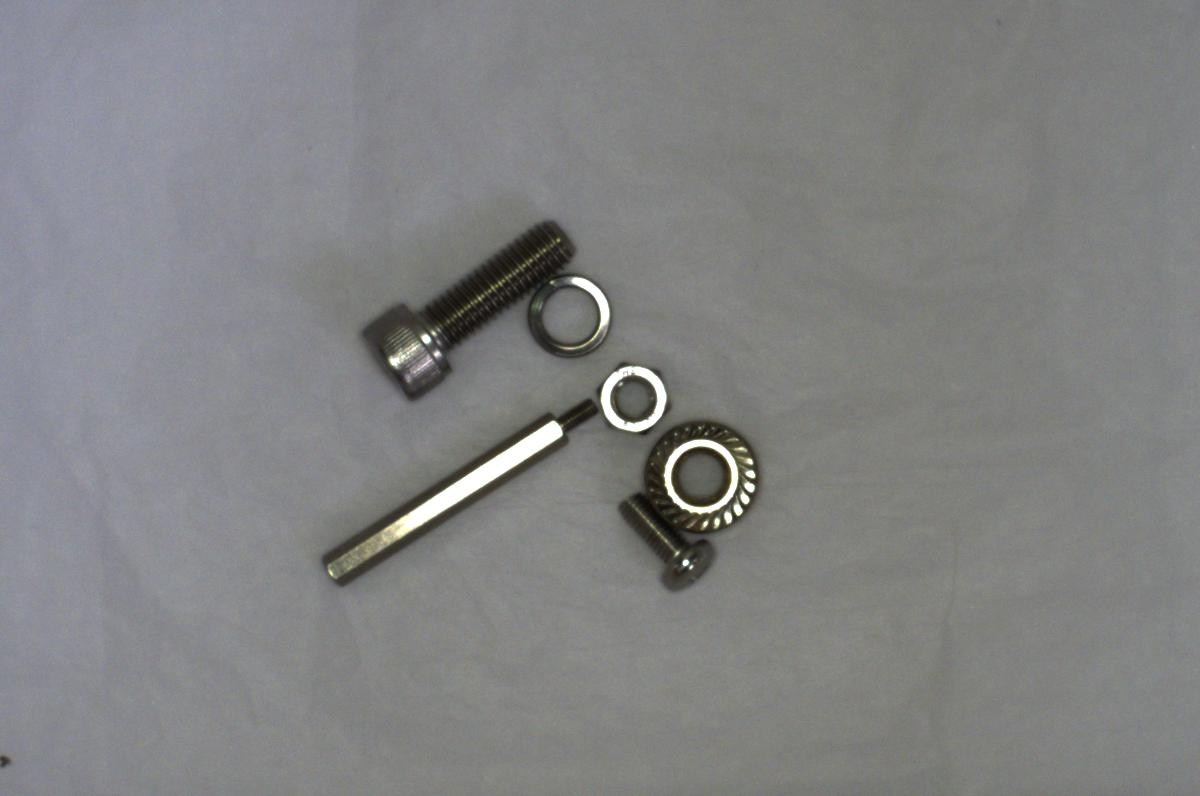Flange nut: (641, 419, 767, 533)
Hexagon nut: (590, 358, 681, 441)
Hexagon screw: (342, 214, 579, 399)
Hexagonal steel column: (301, 393, 597, 586)
Round head screw: (611, 485, 724, 606)
Spring washer: (521, 267, 618, 358)
